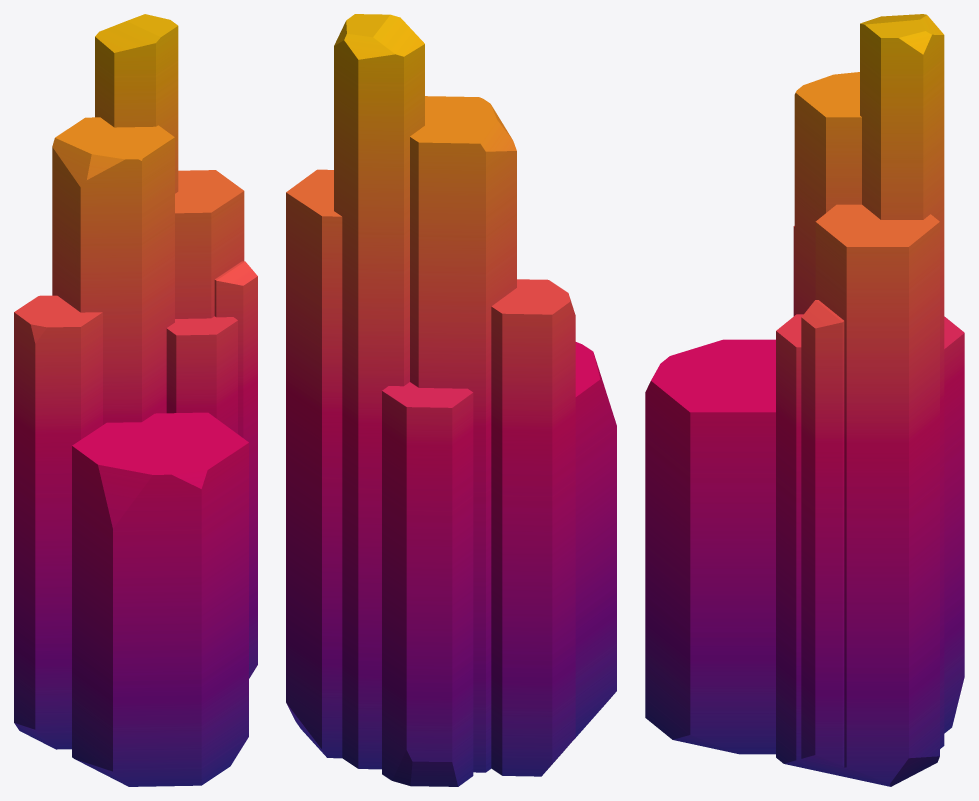
The model's file is cristales08.fbx.
3 views of the same model, side by side, from view 1: azimuth 30°, elevation 25°; view 2: azimuth 150°, elevation 25°; view 3: azimuth 270°, elevation 25° (orthographic). The views are drawn at different scales.
Parts seen in each view (by area): view 1: cristal15; view 2: cristal15; view 3: cristal15.
Part boxes in pixels (bbox=[...]): cristal15: bbox=[14, 14, 257, 786]; cristal15: bbox=[286, 14, 616, 786]; cristal15: bbox=[645, 14, 964, 786].
Size of the model in its own units: 347 by 985 by 394.
Materials: 1 (1 with a texture image).
